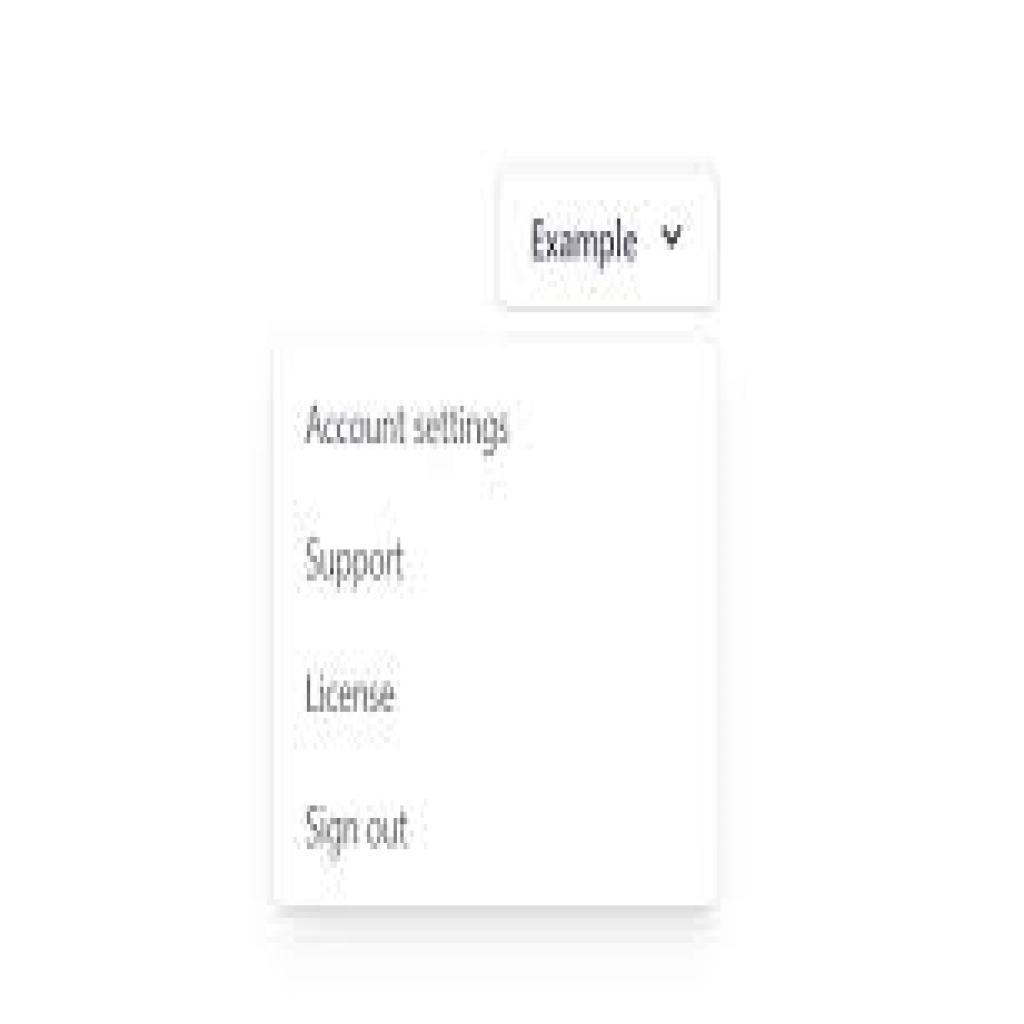dropdown: (499, 172, 720, 313)
label: (297, 398, 512, 459), (295, 530, 419, 594), (302, 800, 415, 867), (302, 658, 411, 724)
